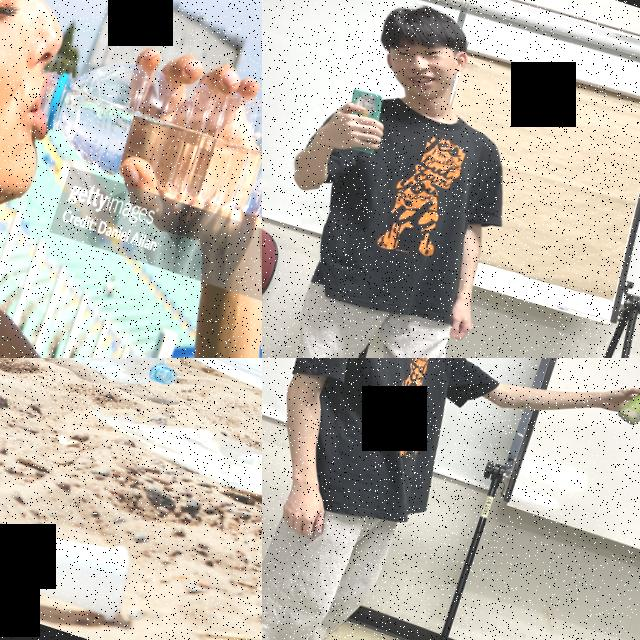bottle: (18, 23, 262, 238), (0, 358, 193, 399)
can: (615, 374, 640, 434)
